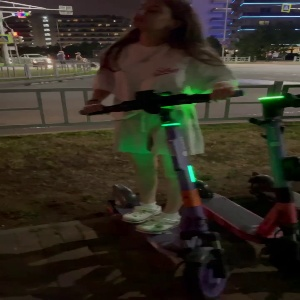human on a scooter: (80, 1, 244, 297)
